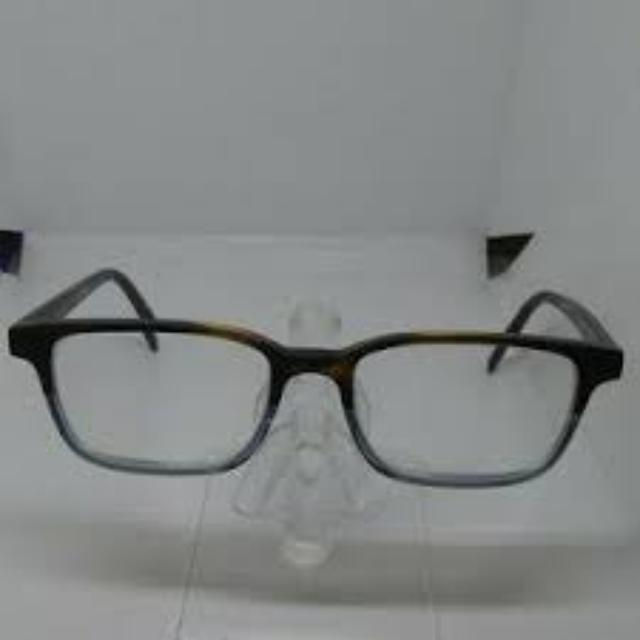glasses: (4, 266, 626, 488)
